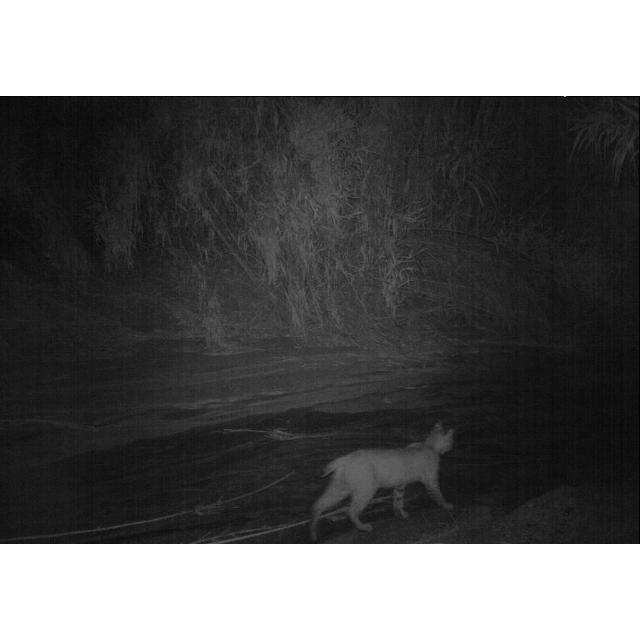animals: (306, 417, 459, 537)
